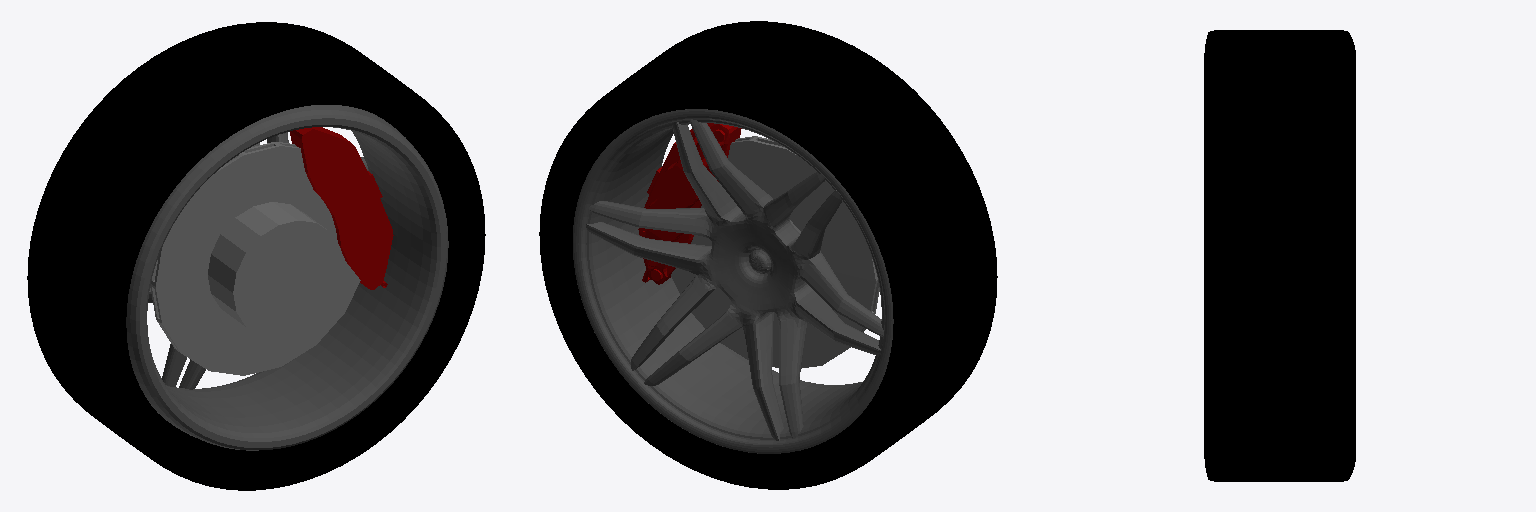
File: Mfr_ADS_Wheel.obj
The picture shows the model from 3 angles: view 1: azimuth 30°, elevation 25°; view 2: azimuth 150°, elevation 25°; view 3: azimuth 270°, elevation 25°; orthographic projection.
Parts seen in each view (by area): view 1: Tube02, Tube01, Cylinder02, bp_rf04, Cylinder01; view 2: Tube02, Cylinder01, Tube01, Cylinder02, bp_rf04; view 3: Tube02.
Part boxes in pixels (x1,y1,x2,y2): Tube02: (27, 22, 485, 490); Tube01: (126, 105, 448, 450); Cylinder02: (150, 142, 360, 375); bp_rf04: (290, 127, 393, 289); Cylinder01: (148, 132, 368, 389); Tube02: (539, 21, 997, 489); Cylinder01: (586, 119, 883, 440); Tube01: (573, 109, 893, 453); Cylinder02: (671, 136, 879, 368); bp_rf04: (638, 123, 741, 284); Tube02: (1204, 30, 1355, 481).
Size of the model in its own units: 88.37 by 88.38 by 29.52.